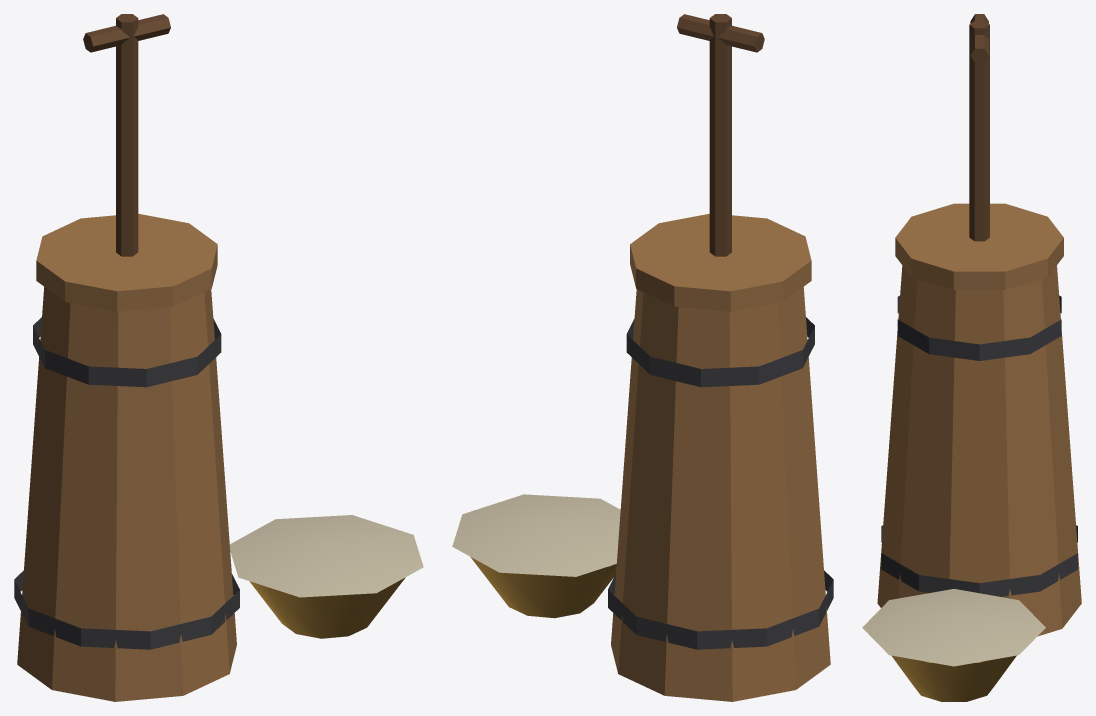
The model's file is ButterChurn.fbx.
3 renders of one model, left to right at view 1: azimuth 30°, elevation 25°; view 2: azimuth 150°, elevation 25°; view 3: azimuth 270°, elevation 25°, orthographic. The views are drawn at different scales.
Parts seen in each view (by area): view 1: ButterChurn; view 2: ButterChurn; view 3: ButterChurn.
Part boxes in pixels (<box>): ButterChurn: <box>14,14,423,701</box>; ButterChurn: <box>452,14,833,701</box>; ButterChurn: <box>862,14,1081,701</box>.
Size of the model in its own units: 0.762 by 1.25 by 0.43.
